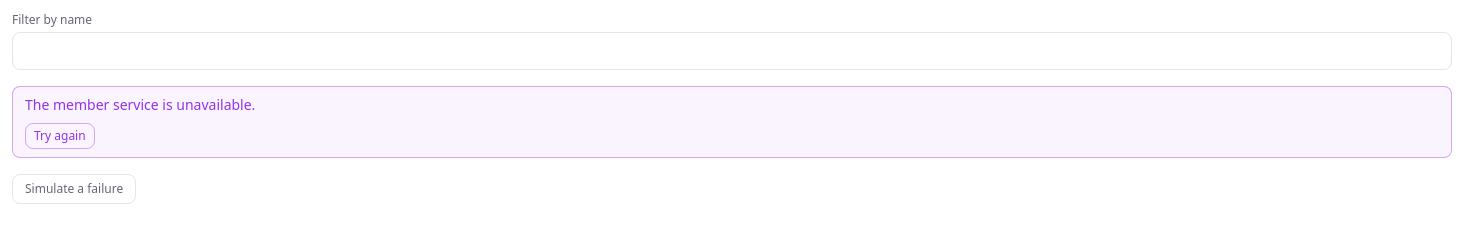
Test: member directory › retries after a failure and then shows the members
Click the button "Try again" at (60, 136), box [25, 123, 95, 149]
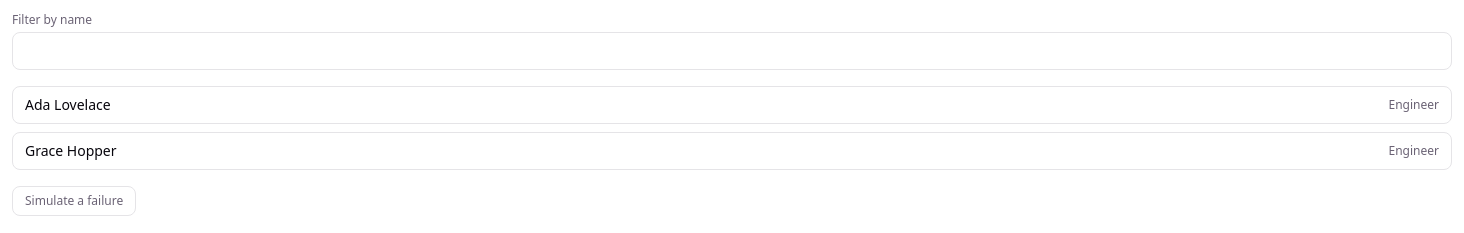
expect the text "Ada Lovelace" is shown: met, box [25, 95, 111, 115]
